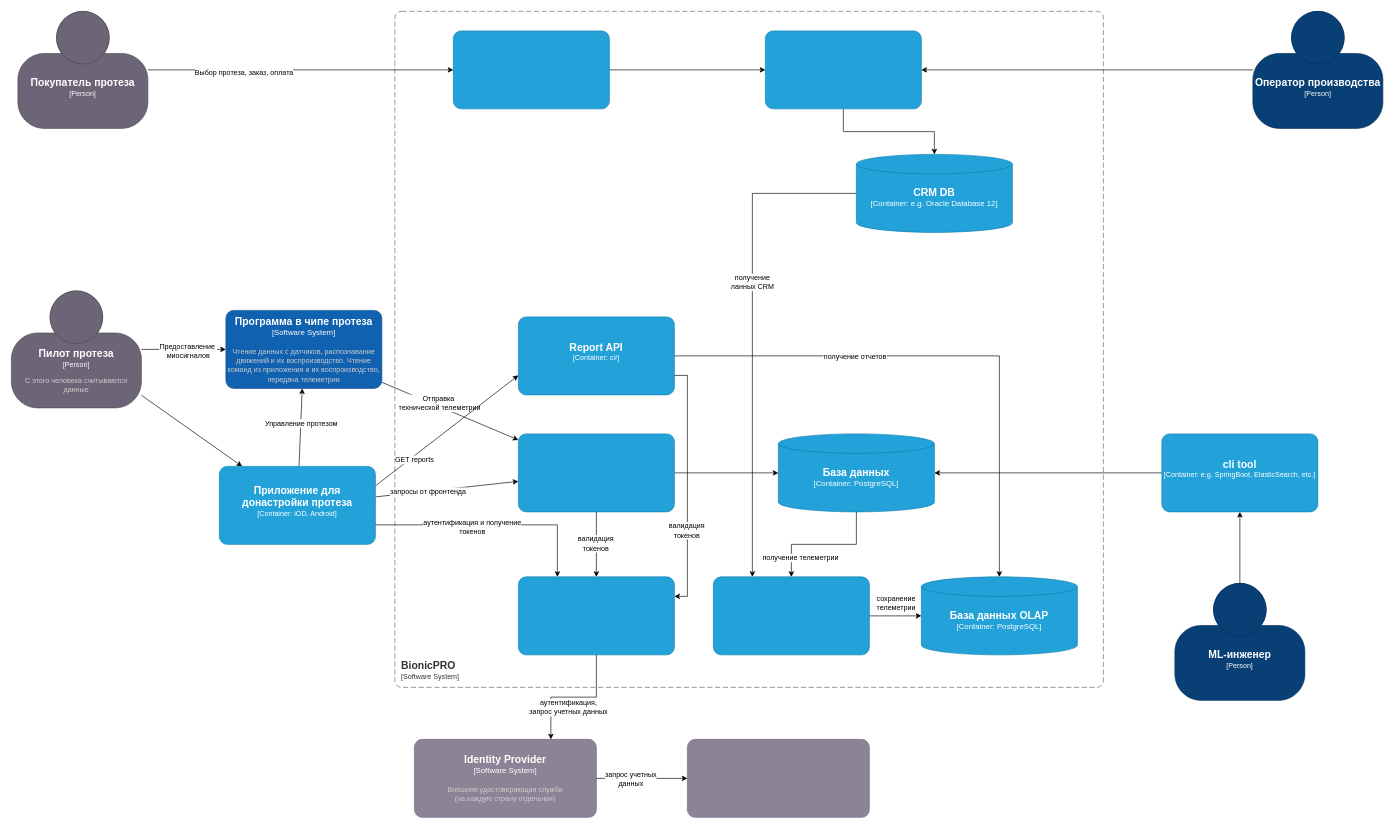
This 1394x829 diagram has some shape labels left out. The centre of each missing label's shape, as x and y in pixels:
Airflow [Container: Apache Airflow]: (791,615)
API [Container: e.g. SpringBoot, ElasticSearch, etc.]: (596,472)
Auth service [Container: keycloak] IdP broker: (596,615)
CRM [Container: Битрикс24]: (843,69)
Local user registry [Software System] Локальный реестр пользователей: (778,778)
Интернет-магазин [Container: Битрикс24]: (531,69)
